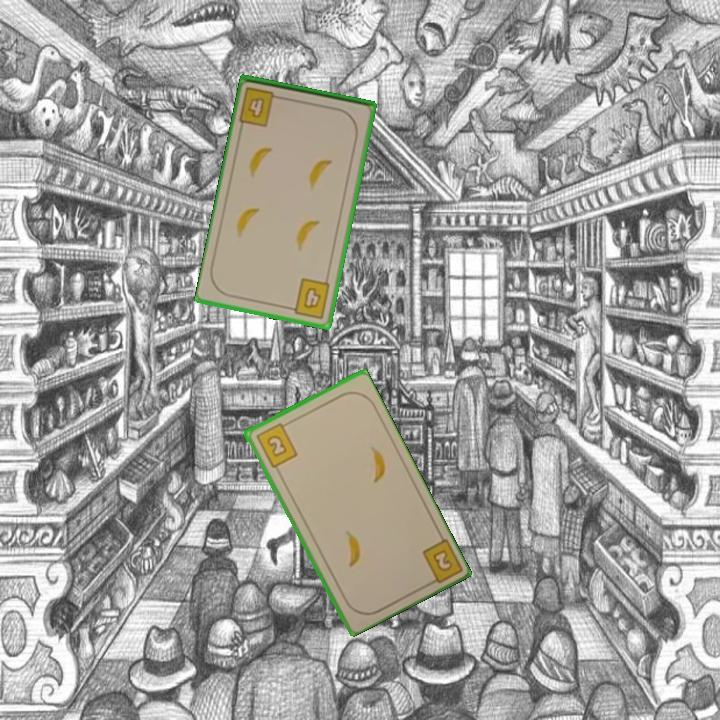2b: (418, 534, 463, 589), (252, 419, 300, 470)
4b: (236, 83, 286, 130), (285, 275, 333, 321)
